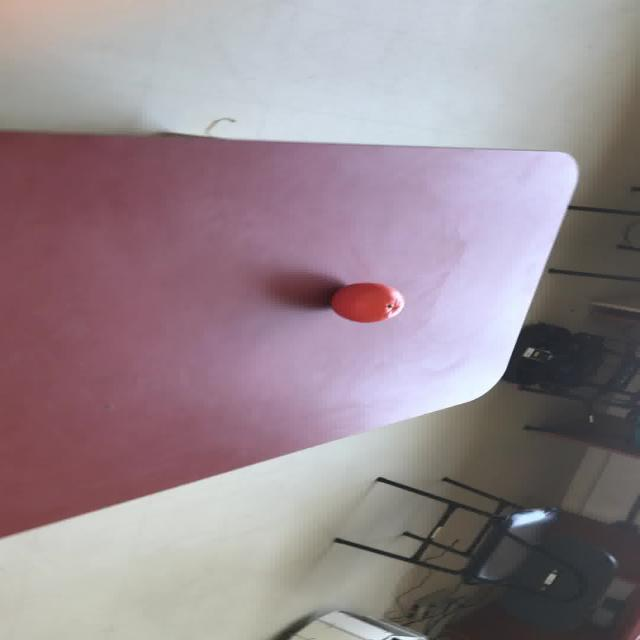orange: (329, 282, 405, 322)
